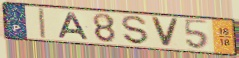5: (182, 18, 211, 52)
8: (92, 12, 117, 44)
A: (57, 12, 91, 41)
I: (37, 7, 48, 40)
S: (120, 14, 150, 46)
V: (149, 16, 181, 49)
